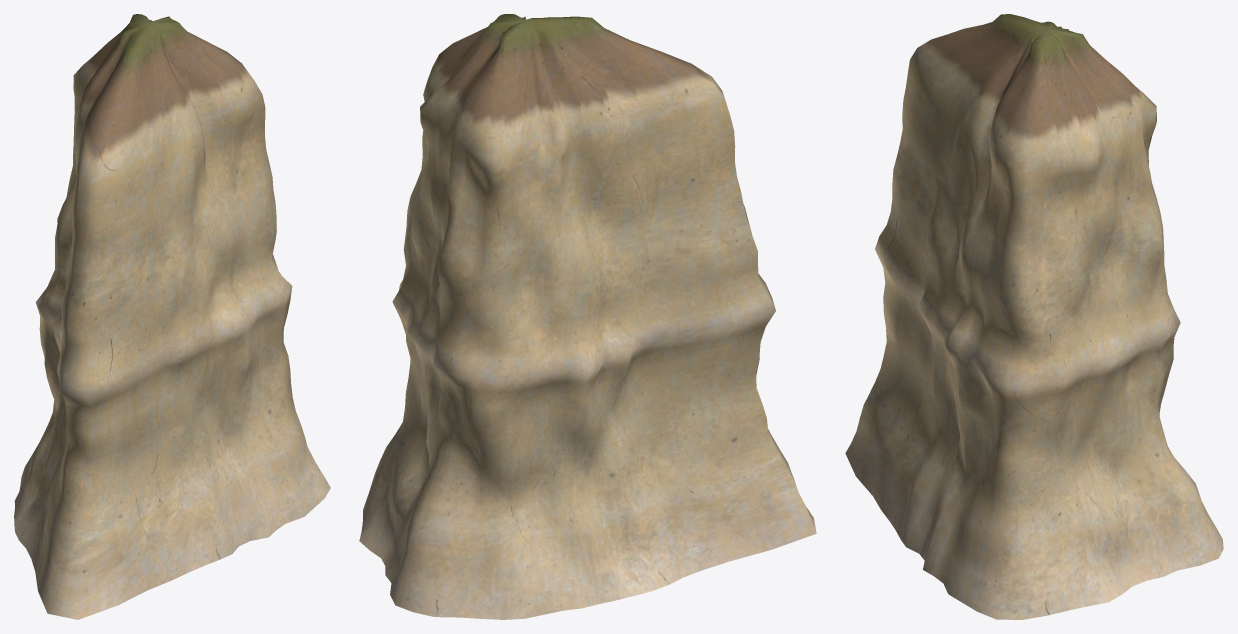
Rendered from lo_col.glb.
3 renders of one model, left to right at view 1: azimuth 30°, elevation 25°; view 2: azimuth 150°, elevation 25°; view 3: azimuth 270°, elevation 25°, orthographic. The views are drawn at different scales.
Visible parts, largest first — view 1: lo_col; view 2: lo_col; view 3: lo_col.
Part boxes in pixels (left/top/right/bottom): lo_col: left=14, top=14, right=330, bottom=619; lo_col: left=359, top=14, right=816, bottom=619; lo_col: left=845, top=14, right=1223, bottom=619.
Bounding box in the file's own units: 3.09 × 4.2 × 2.82.
1 material, 1 textured.
